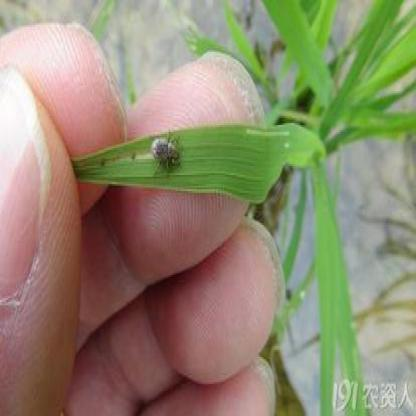rice-bug: (150, 130, 183, 174)
